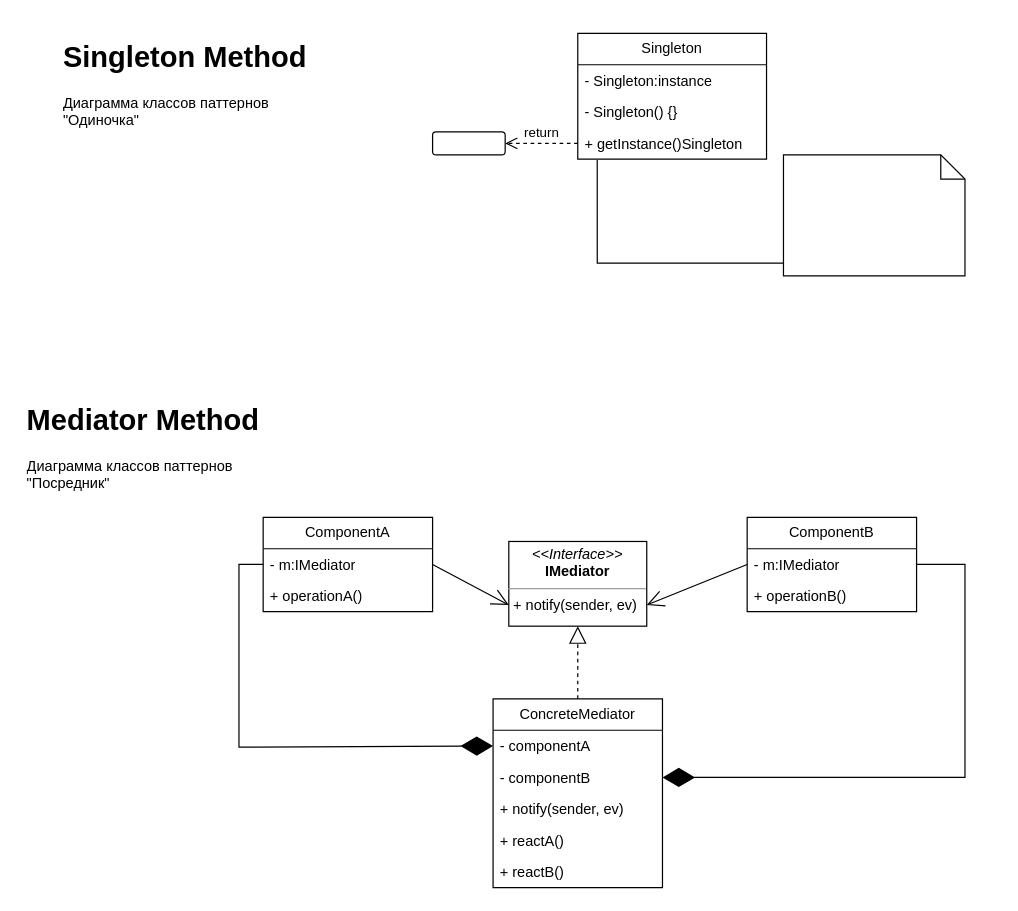
Image size: 1018x911. Some labels were removed from this diagram. Each missing label, with the centre of its shape:
"client" goes at (468,143).
"If(instance == null) instance = new Singleton; return instance;" goes at (873,215).
